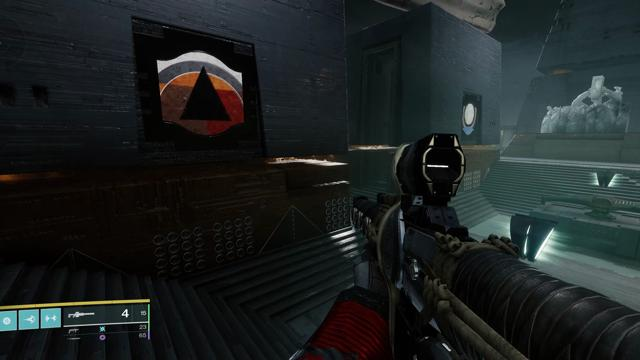pyramid: (156, 51, 245, 135)
traveler: (461, 101, 477, 135)
